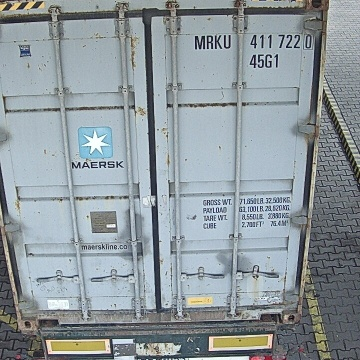serial_id: (195, 34, 313, 48)
